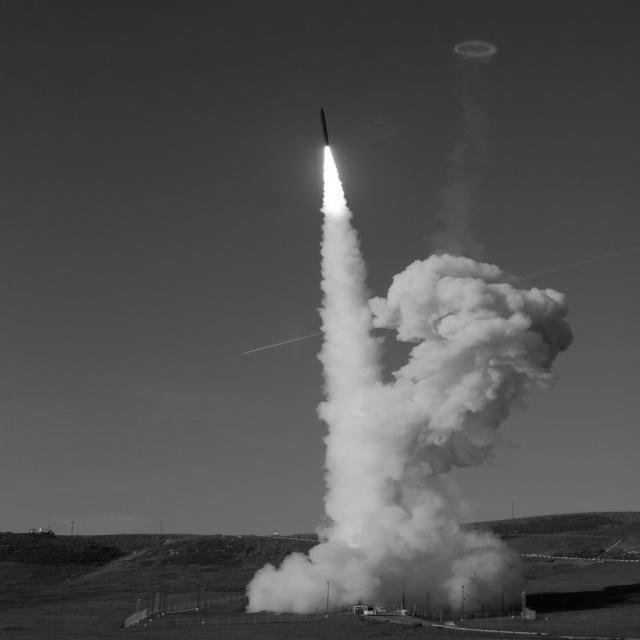missile: (318, 105, 330, 149)
